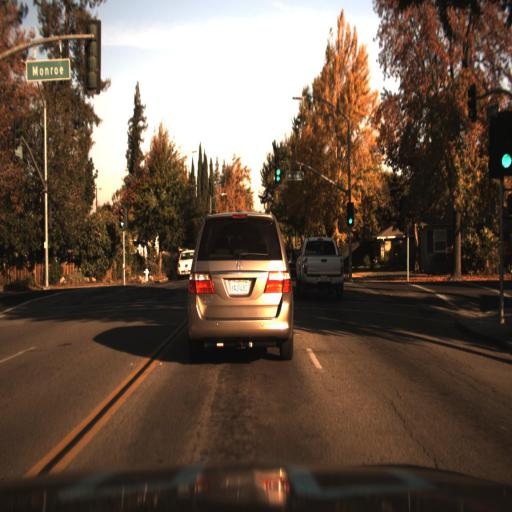car: (187, 206, 295, 361), (298, 234, 346, 293), (176, 243, 200, 286)
trafficLight: (273, 155, 283, 186)
trafficLight-Green: (349, 199, 359, 229)
trafficLight-GreenLeft: (115, 206, 128, 232)
